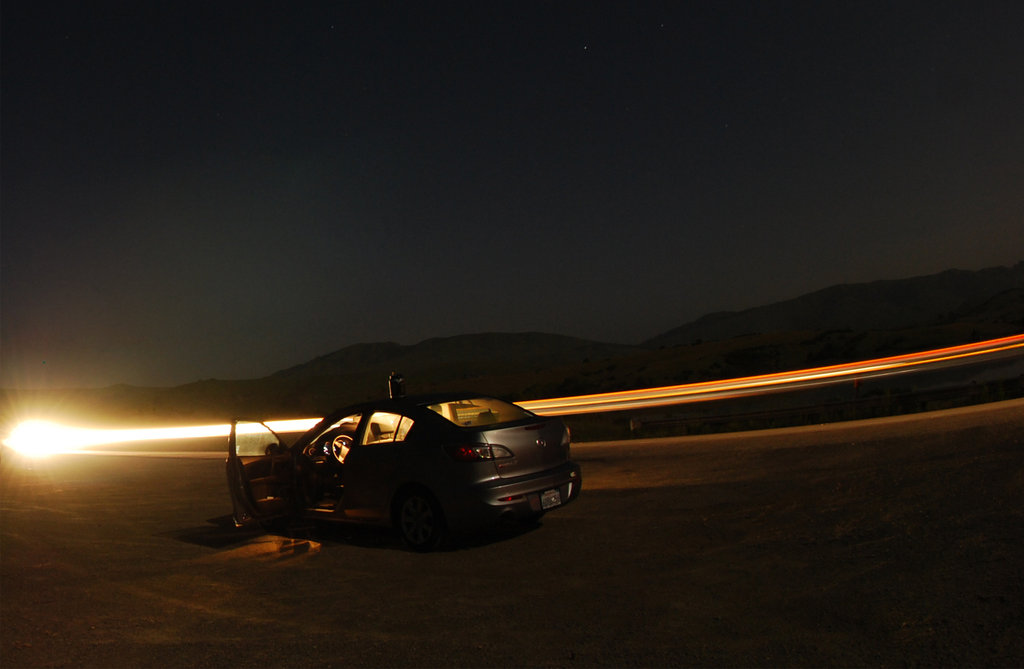car: (216, 378, 590, 563)
